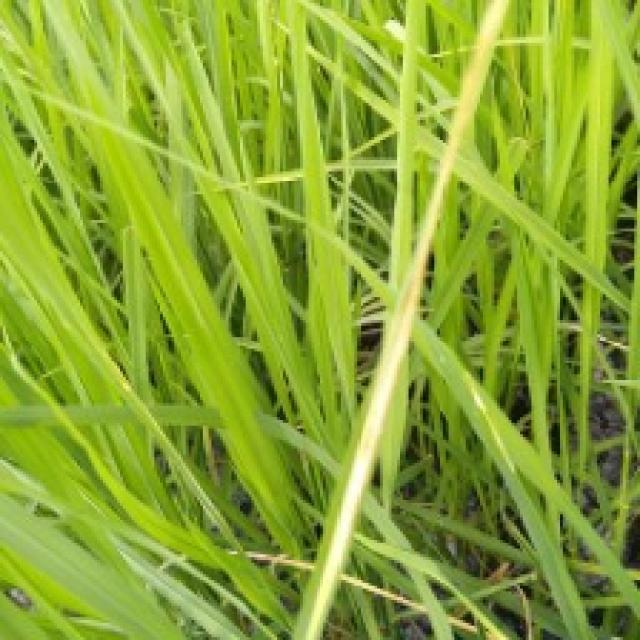Rice___Bacterial_Leaf_Blight: (289, 0, 513, 637)
